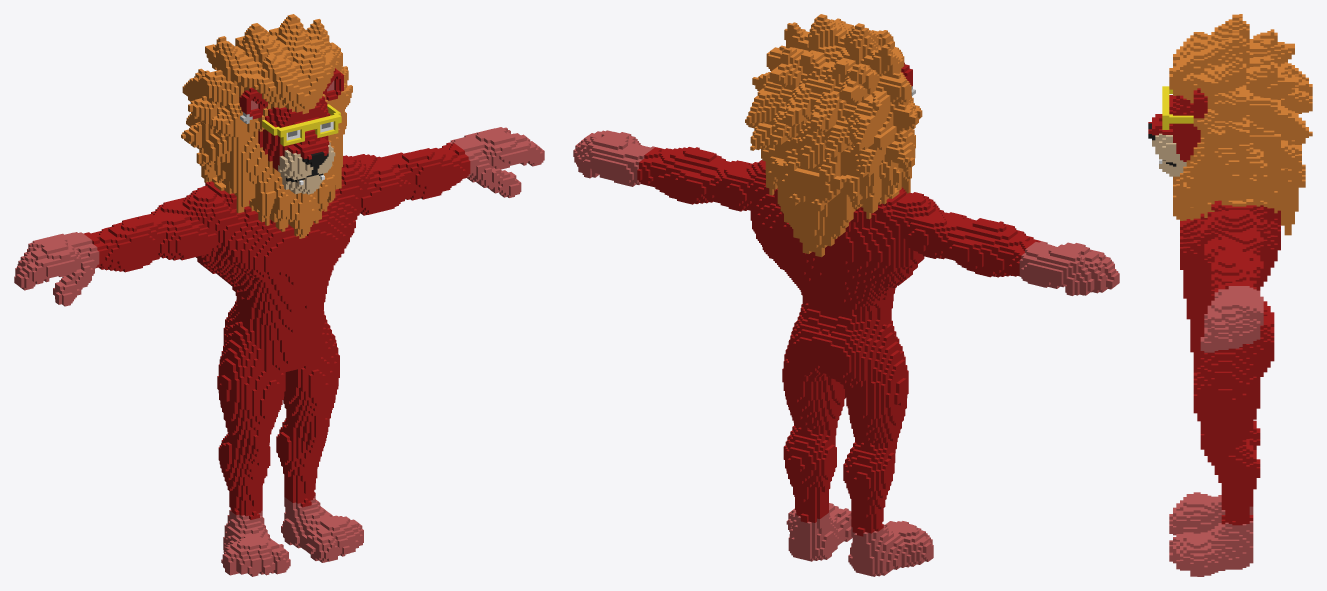
Rendered from 989-6bC_jXqS.glb.
3 views of the same model, side by side, from view 1: azimuth 30°, elevation 25°; view 2: azimuth 150°, elevation 25°; view 3: azimuth 270°, elevation 25° (orthographic). The views are drawn at different scales.
Visible parts, largest first — view 1: standard.001; view 2: standard.001; view 3: standard.001.
Part boxes in pixels (left/top/right/bottom): standard.001: left=14, top=14, right=544, bottom=576; standard.001: left=573, top=14, right=1119, bottom=576; standard.001: left=1148, top=14, right=1312, bottom=576.
Size of the model in its own units: 17.2 by 16.5 by 4.7.
5 materials, 5 textured.
